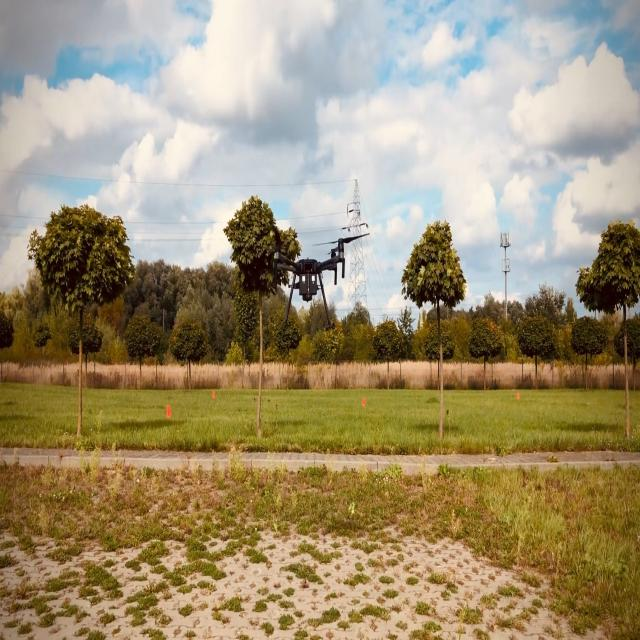drone: (271, 228, 370, 330)
